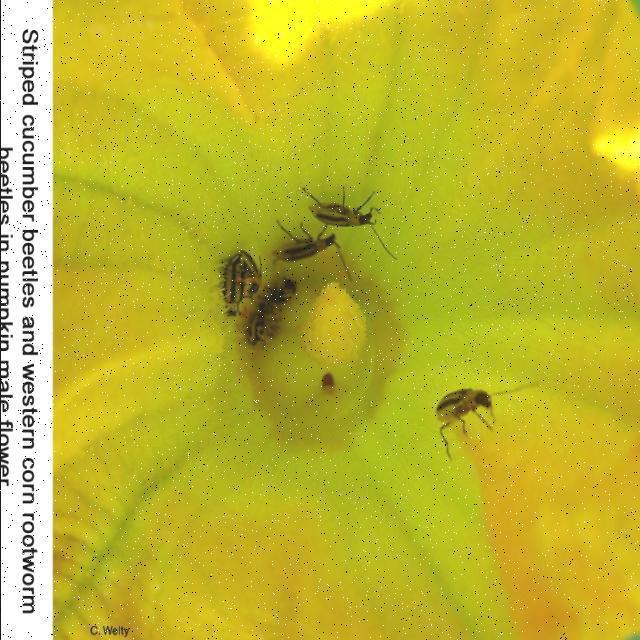trips: (293, 184, 387, 247), (420, 380, 510, 440), (212, 253, 264, 330), (270, 225, 350, 272), (248, 298, 268, 360), (260, 278, 294, 298)
